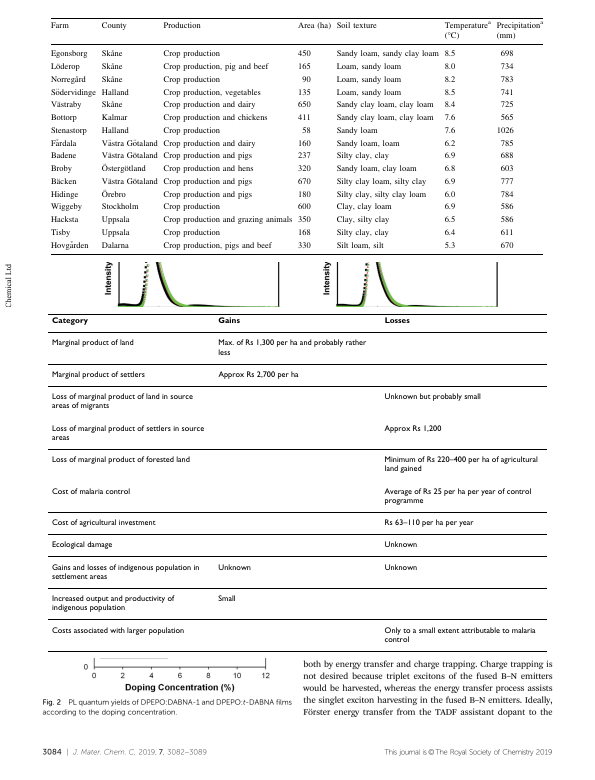borderless: (47, 312, 547, 651), (50, 16, 543, 254)
cell: (50, 424, 205, 443), (383, 455, 538, 474), (383, 626, 536, 645), (217, 339, 367, 358), (50, 563, 200, 582), (383, 487, 532, 506), (50, 392, 193, 411), (50, 594, 175, 613), (50, 455, 190, 465), (50, 626, 185, 636), (162, 215, 293, 225), (162, 241, 272, 251), (443, 19, 492, 41), (495, 19, 544, 41), (162, 62, 269, 72), (50, 518, 156, 528), (162, 113, 268, 123), (335, 50, 440, 60), (162, 88, 261, 98), (335, 101, 434, 111), (335, 113, 434, 123), (383, 392, 481, 402), (50, 370, 145, 380), (162, 101, 256, 111), (162, 139, 256, 149), (162, 164, 254, 174), (335, 177, 427, 187), (335, 190, 427, 200), (383, 518, 474, 528), (162, 152, 253, 162), (162, 177, 253, 187), (162, 190, 253, 200), (217, 370, 299, 380), (335, 164, 417, 174), (50, 487, 131, 497), (50, 339, 134, 348), (335, 62, 402, 72), (335, 75, 402, 85), (335, 88, 402, 98), (335, 139, 400, 149), (383, 424, 442, 434), (162, 50, 221, 60), (162, 75, 221, 85), (162, 126, 221, 136), (162, 203, 221, 213), (162, 228, 221, 238), (100, 139, 158, 149), (100, 152, 158, 162), (100, 177, 158, 187), (335, 203, 392, 213), (50, 541, 113, 550), (335, 215, 390, 225), (335, 152, 389, 162), (335, 228, 389, 238), (100, 163, 146, 174), (335, 241, 384, 251), (50, 88, 97, 98), (335, 126, 378, 136), (335, 21, 377, 31), (162, 21, 201, 31), (100, 203, 139, 213), (50, 241, 89, 251), (50, 50, 88, 60), (50, 126, 87, 136), (50, 75, 86, 85), (383, 563, 418, 573), (297, 21, 332, 31), (50, 317, 88, 326), (217, 563, 251, 573), (50, 203, 83, 213), (50, 101, 82, 111), (383, 541, 418, 550), (100, 188, 126, 200), (50, 62, 80, 72), (100, 215, 130, 225), (100, 228, 130, 238), (100, 88, 129, 98), (100, 126, 129, 136), (50, 190, 79, 200), (50, 215, 79, 225), (100, 241, 129, 251), (100, 113, 128, 123), (100, 21, 127, 31), (50, 113, 77, 123), (50, 139, 77, 149), (50, 152, 77, 162), (50, 177, 77, 187), (100, 49, 123, 60), (100, 100, 123, 111), (383, 317, 410, 326), (100, 62, 123, 72), (100, 75, 123, 85), (50, 164, 73, 174), (50, 228, 71, 238), (217, 317, 240, 326), (49, 21, 69, 31), (217, 594, 236, 604), (495, 126, 514, 136), (499, 50, 514, 60), (499, 62, 514, 72), (499, 75, 514, 85), (499, 88, 514, 98), (499, 101, 514, 111), (499, 113, 514, 123), (499, 139, 514, 149), (499, 152, 514, 162), (499, 164, 514, 174), (499, 177, 514, 187), (499, 190, 514, 200), (499, 203, 514, 213), (499, 215, 514, 225), (499, 228, 514, 238), (499, 241, 514, 251), (297, 50, 311, 60), (297, 62, 311, 72), (297, 88, 311, 98), (297, 101, 311, 111), (297, 113, 311, 123), (297, 139, 311, 149), (297, 152, 311, 162), (297, 164, 311, 174), (297, 177, 311, 187), (297, 190, 311, 200), (297, 203, 311, 213), (297, 215, 311, 225), (297, 228, 311, 238), (297, 241, 311, 251), (443, 50, 456, 60), (443, 62, 456, 72), (443, 75, 456, 85), (443, 88, 456, 98), (443, 101, 456, 111), (443, 113, 456, 123), (443, 126, 456, 136), (443, 139, 456, 149), (443, 152, 456, 162), (443, 164, 456, 174), (443, 177, 456, 187), (443, 190, 456, 200), (443, 203, 456, 213), (443, 215, 456, 225), (443, 228, 456, 238), (443, 241, 456, 251), (301, 75, 311, 85), (301, 126, 311, 136)
